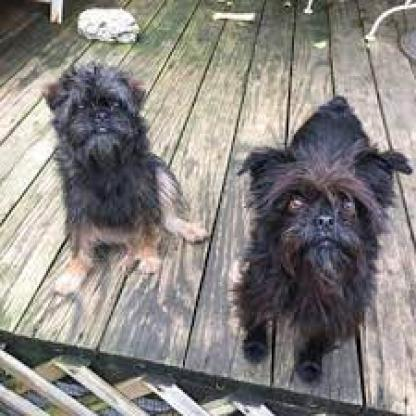Affenpinscher: (218, 137, 408, 363), (34, 54, 188, 242)
